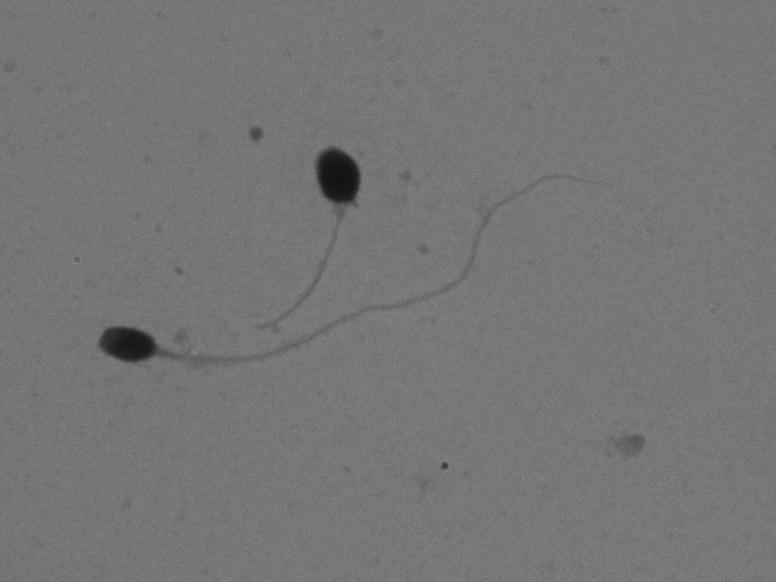Abnormal: (215, 125, 399, 340)
Normal: (60, 122, 627, 388)
